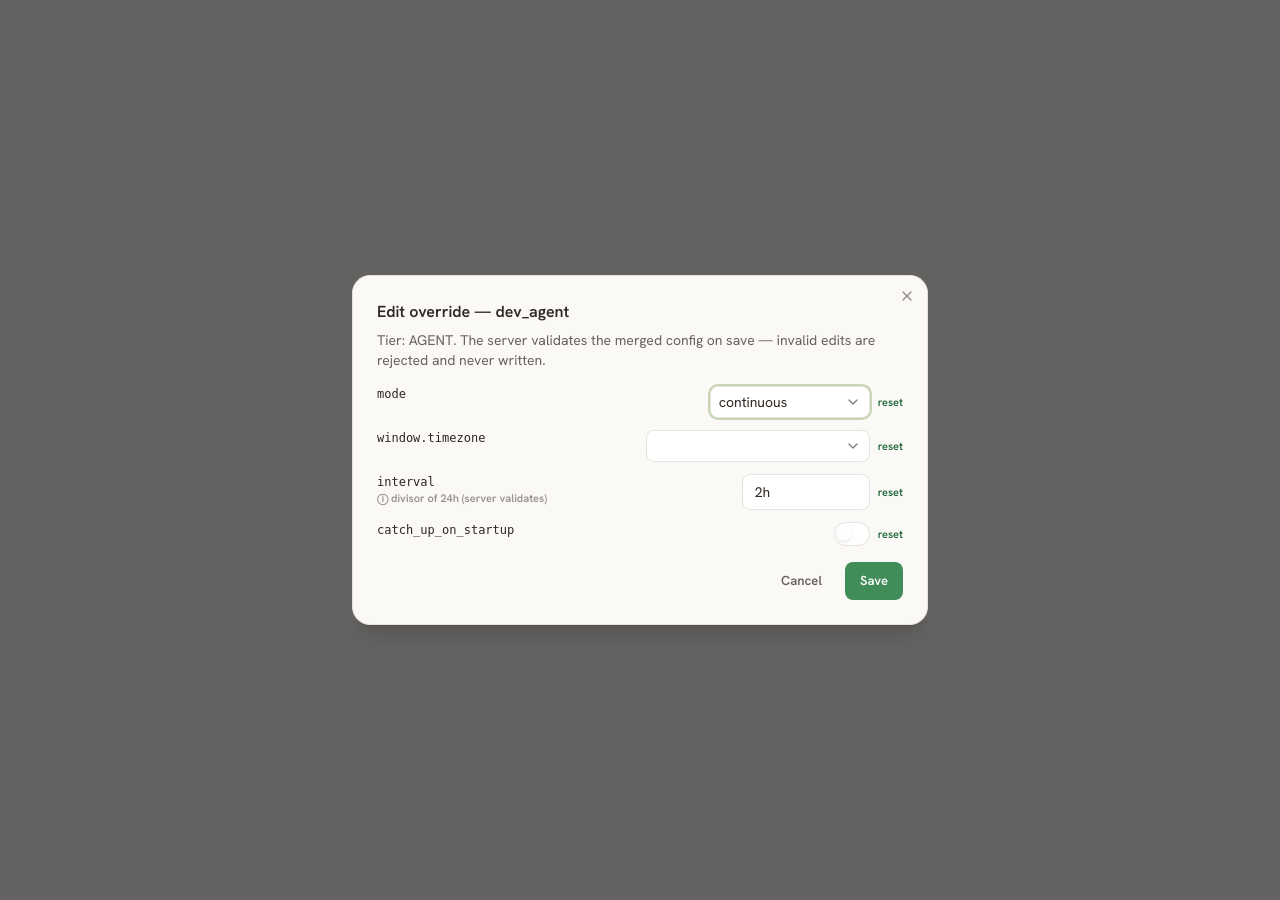
Scenario: TierEditorDialog — continuous interval is server-authoritative › accepts a non-divisor interval (5h) with NO client-side block and surfaces the server 422
Step 1. Clear the field with placeholder "2h" → {"x": 806, "y": 492}, box [742,474,870,510]
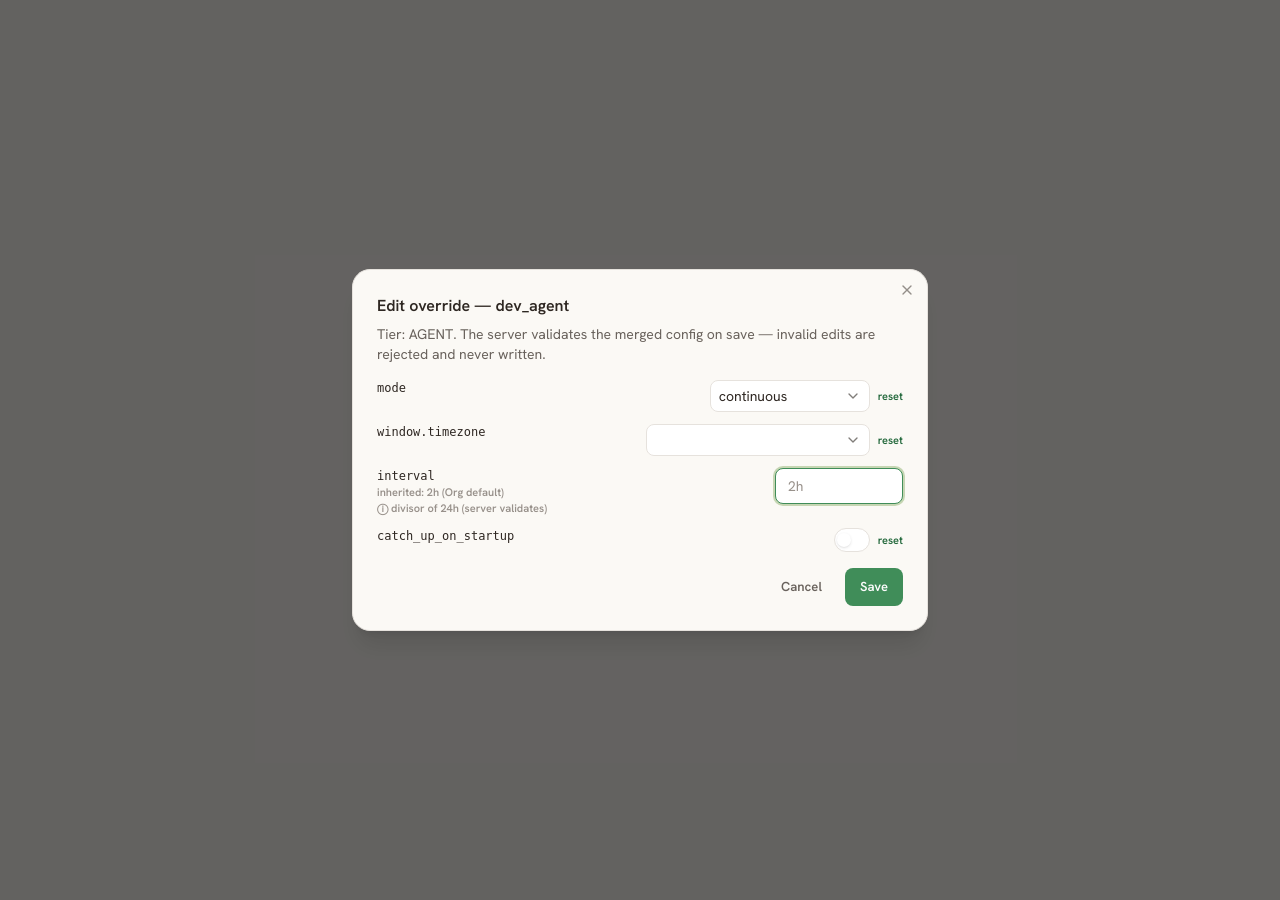
Step 2. Type "5h" into the field with placeholder "2h" → {"x": 839, "y": 486}, box [775,468,903,504]
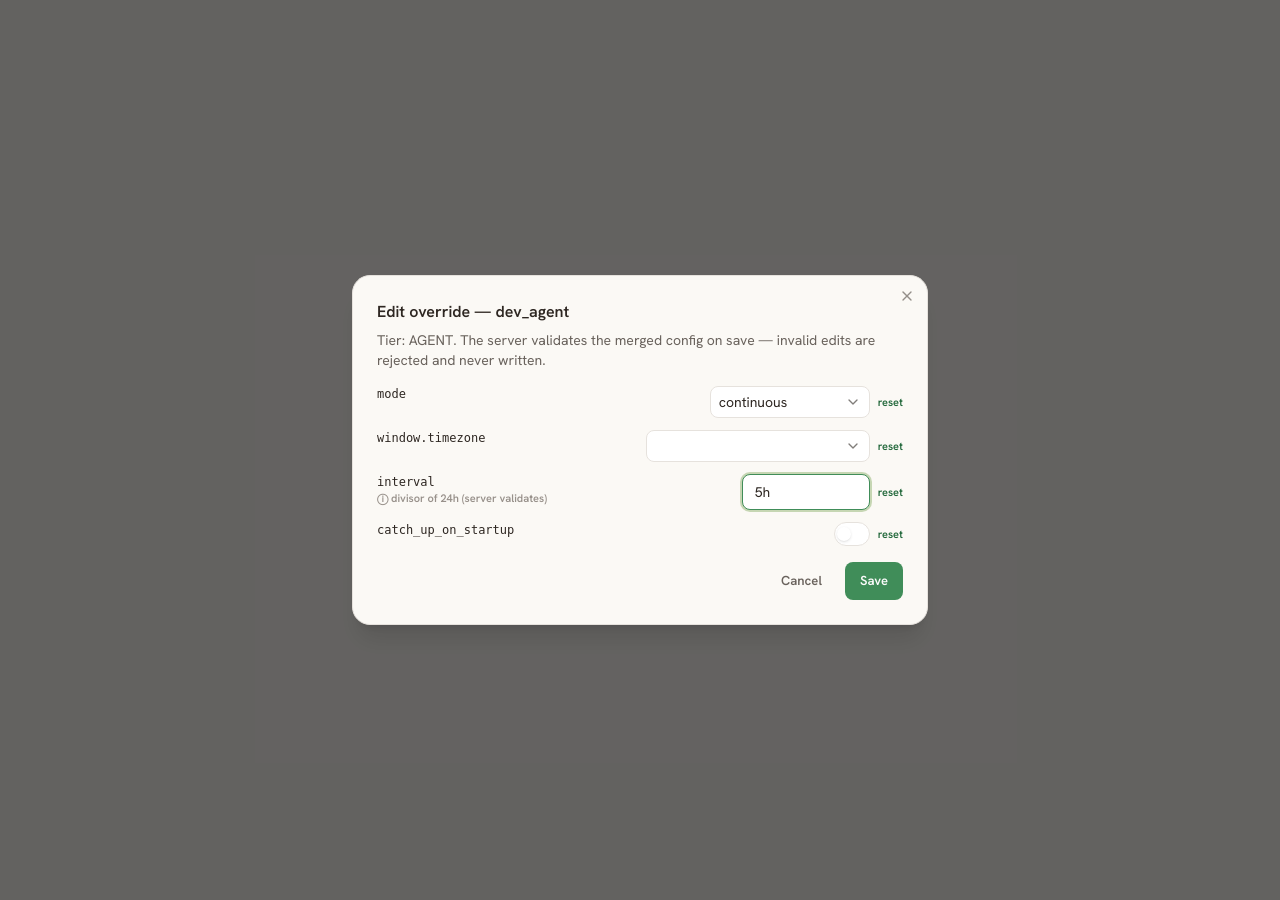
// Agent tier saves directly (no impact-confirm step).
Step 3. Click the button "Save" → {"x": 874, "y": 581}, box [845,562,903,600]
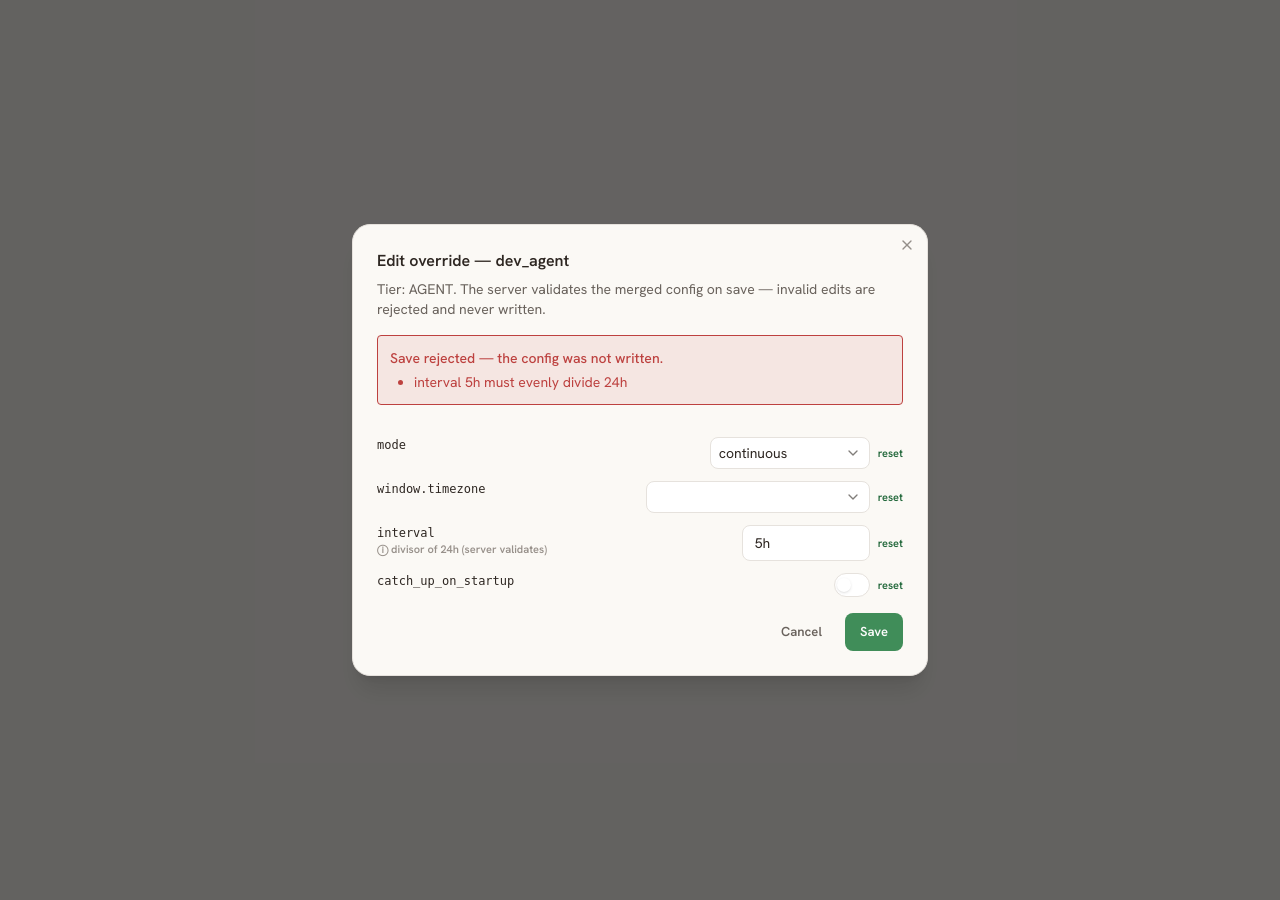
Now the list item "interval 5h must evenly divide 24h" is shown, box [414,373,627,391]
